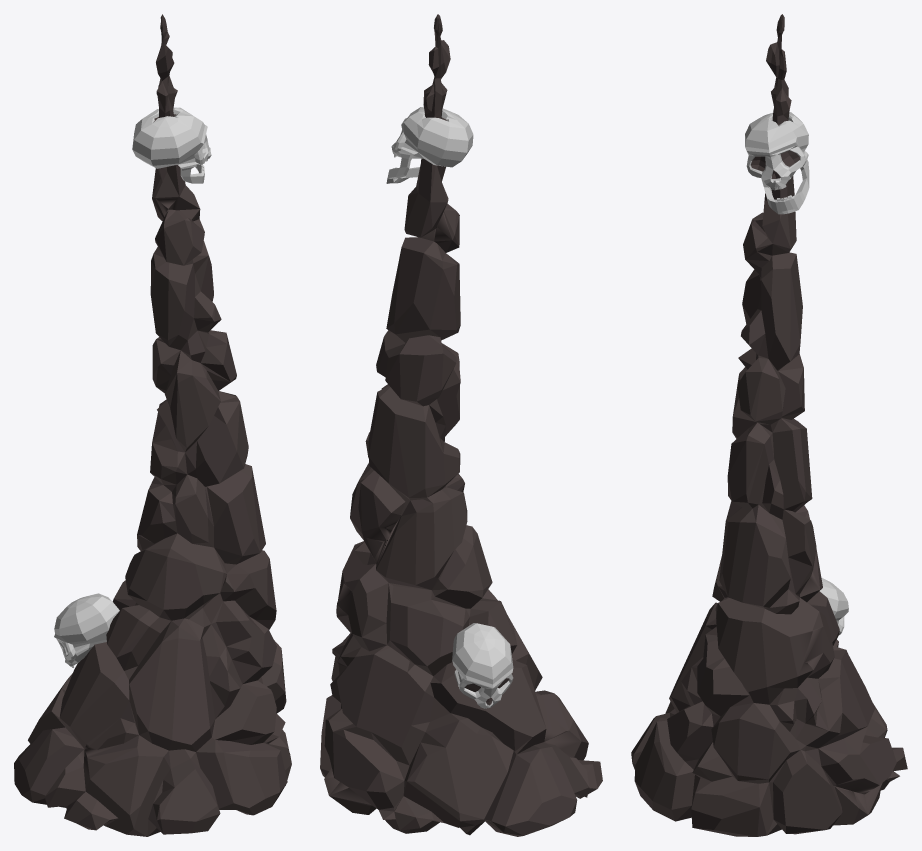
Rendered from StoneWithSkull.fbx.
3 views of the same model, side by side, from view 1: azimuth 30°, elevation 25°; view 2: azimuth 150°, elevation 25°; view 3: azimuth 270°, elevation 25° (orthographic). The views are drawn at different scales.
Visible parts, largest first — view 1: StoneWithSkull; view 2: StoneWithSkull; view 3: StoneWithSkull.
Part boxes in pixels (<box>): StoneWithSkull: <box>14,14,291,836</box>; StoneWithSkull: <box>320,14,602,836</box>; StoneWithSkull: <box>631,14,907,836</box>.
Bounding box in the file's own units: 100 × 305 × 98.
